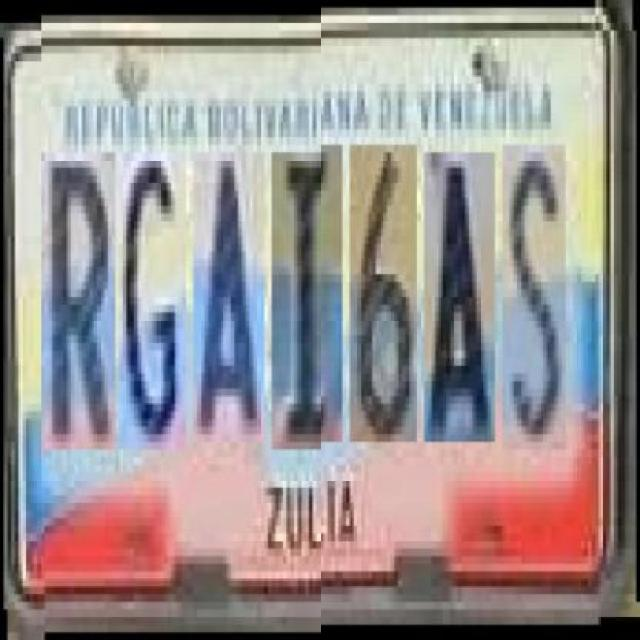6: (350, 146, 418, 442)
a: (193, 143, 264, 434), (424, 152, 494, 442)
g: (119, 146, 186, 442)
i: (272, 146, 342, 442)
r: (40, 146, 115, 442)
s: (502, 145, 566, 449)
